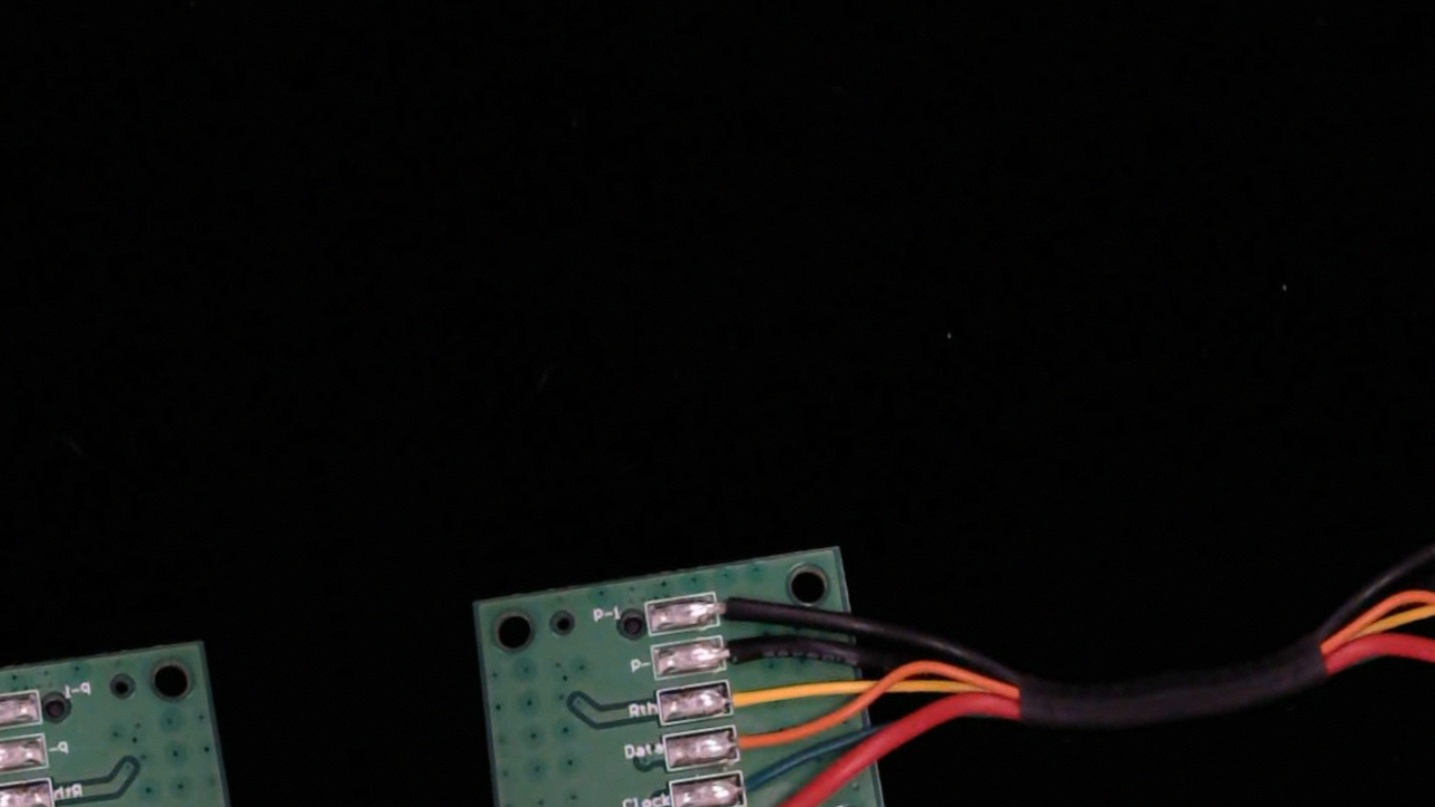Black: (699, 626, 787, 677)
Black1: (695, 580, 776, 629)
Green: (718, 763, 802, 807)
Orange: (711, 715, 797, 763)
Yellow: (705, 671, 794, 722), (0, 784, 6, 807)
